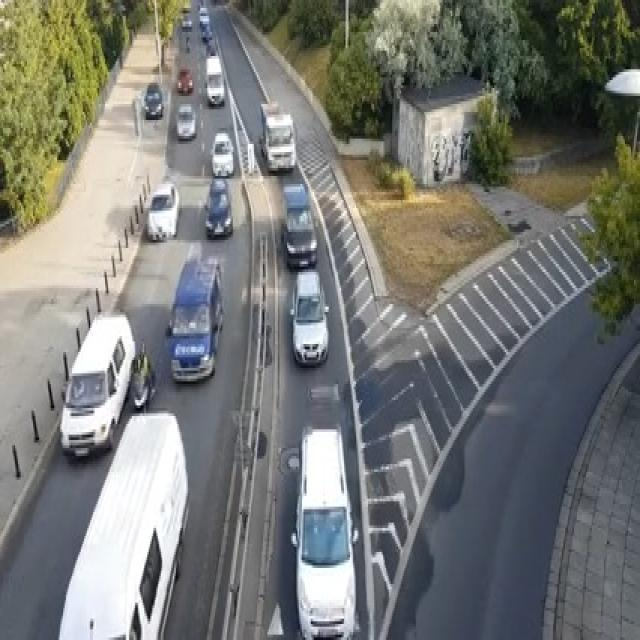bus: (56, 408, 189, 637)
car: (290, 422, 356, 638), (59, 312, 135, 459), (165, 251, 224, 384), (288, 267, 329, 365), (279, 182, 317, 270), (258, 98, 296, 170), (146, 181, 180, 240), (128, 341, 156, 411), (204, 176, 233, 237), (210, 131, 234, 176), (204, 53, 224, 107), (141, 83, 164, 117), (176, 101, 195, 139), (176, 67, 192, 93), (198, 10, 209, 27), (182, 11, 192, 29), (201, 24, 212, 40)
